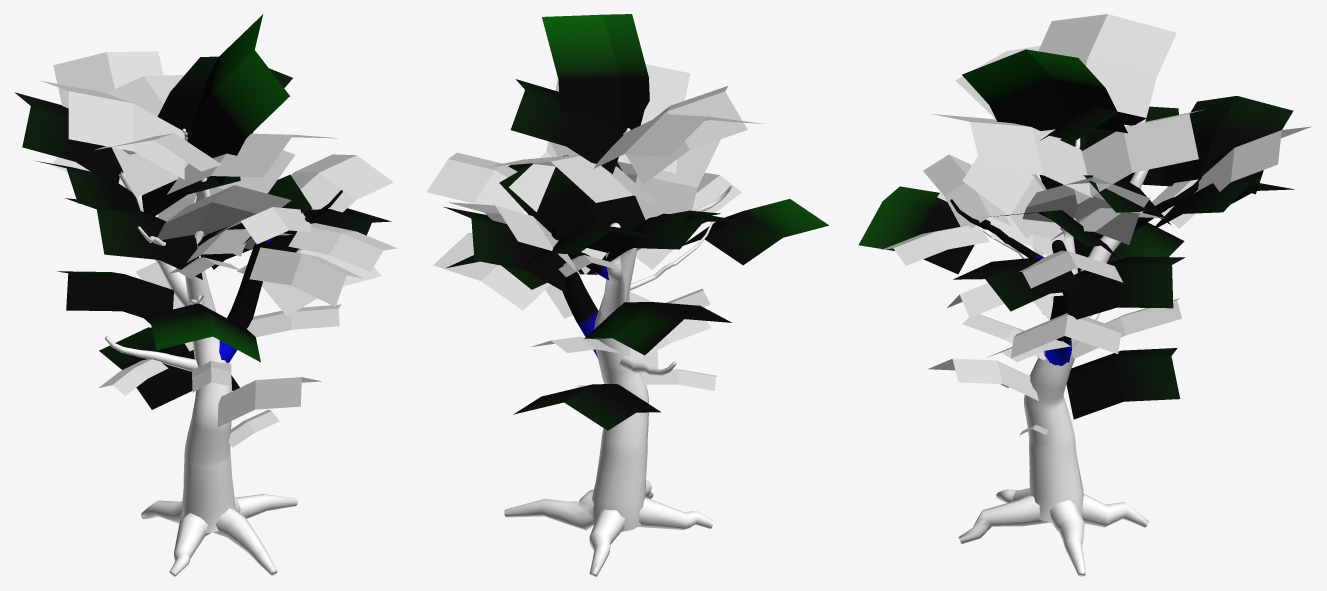
The model's file is MisterDs_afsTREE_new_xlp18_xmvcb.fbx.
The picture shows the model from 3 angles, left to right: view 1: azimuth 30°, elevation 25°; view 2: azimuth 150°, elevation 25°; view 3: azimuth 270°, elevation 25°; orthographic projection.
Visible parts, largest first — view 1: trunk_xw06, leavesbig_19, leavesbig_17, leavesbig, leavesbig_15, leavesbig_4, leavesbig_11, leavesbig_9, leavesbig_13, leavesbig_22, leavesmall_1, leavesbig_20 (+23 smaller); view 2: trunk_xw06, leavesbig_19, leavesbig_18, leavesbig_22, leavesbig_7, leavesbig, leavesbig_3, leavesbig_16, leavesbig_11, leavesbig_9, leavesbig_2, leavesbig_17 (+17 smaller); view 3: trunk_xw06, leavesbig_19, leavesbig_17, leavesbig_2, leavesbig_4, leavesbig_21, leavesbig_20, leavesbig_2_2, leavesbig_22, leavesbig_9, leavesbig_10, leavesbig_14 (+23 smaller).
Part boxes in pixels (x1,y1,x2,y2): trunk_xw06: (141,255,297,576); leavesbig_19: (187,14,289,185); leavesbig_17: (41,81,184,179); leavesbig: (57,271,173,317); leavesbig_15: (64,198,202,279); leavesbig_4: (15,92,121,182); leavesbig_11: (291,154,393,212); leavesbig_9: (157,185,291,249); leavesbig_13: (53,51,163,108); leavesbig_22: (143,303,260,362); leavesmall_1: (249,247,363,306); leavesbig_20: (106,75,188,197); trunk_xw06: (504,248,713,576); leavesbig_19: (542,14,649,133); leavesbig_18: (510,79,623,173); leavesbig_22: (683,199,828,265); leavesbig_7: (511,155,645,240); leavesbig: (584,302,731,355); leavesbig_3: (443,206,565,292); leavesbig_16: (626,86,747,183); leavesbig_11: (426,152,524,213); leavesbig_9: (617,139,720,219); leavesbig_2: (513,384,660,430); leavesbig_17: (593,114,763,168); trunk_xw06: (958,218,1148,576); leavesbig_19: (962,49,1127,133); leavesbig_17: (1038,14,1176,126); leavesbig_2: (1066,348,1180,419); leavesbig_4: (1159,96,1293,194); leavesbig_21: (932,114,1092,197); leavesbig_20: (1074,109,1203,204); leavesbig_2_2: (1067,256,1185,319); leavesbig_22: (858,186,990,274); leavesbig_9: (962,156,1060,256); leavesbig_10: (1022,177,1149,244); leavesbig_14: (953,258,1085,311).
Size of the model in its own units: 1020 by 1269 by 1575.
